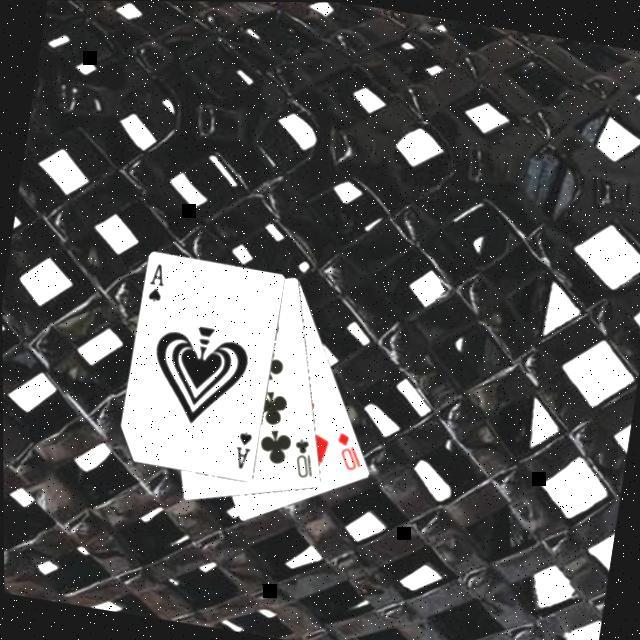10C: (284, 435, 318, 485)
10D: (327, 430, 365, 477)
AS: (141, 260, 168, 309), (227, 428, 254, 475)
